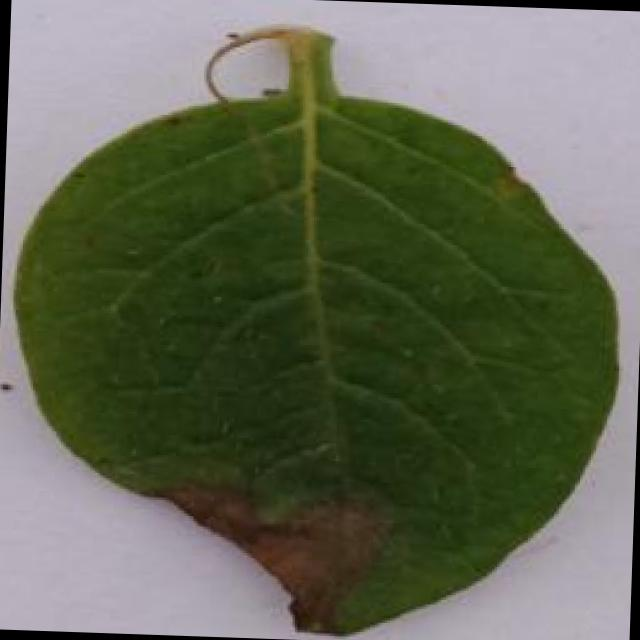Potato_Late_Blight: (1, 22, 622, 640)
